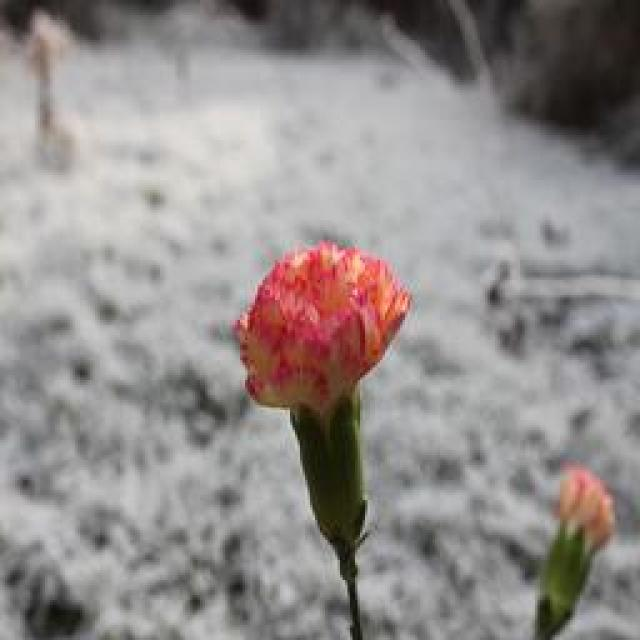carnation: (212, 217, 452, 510)
